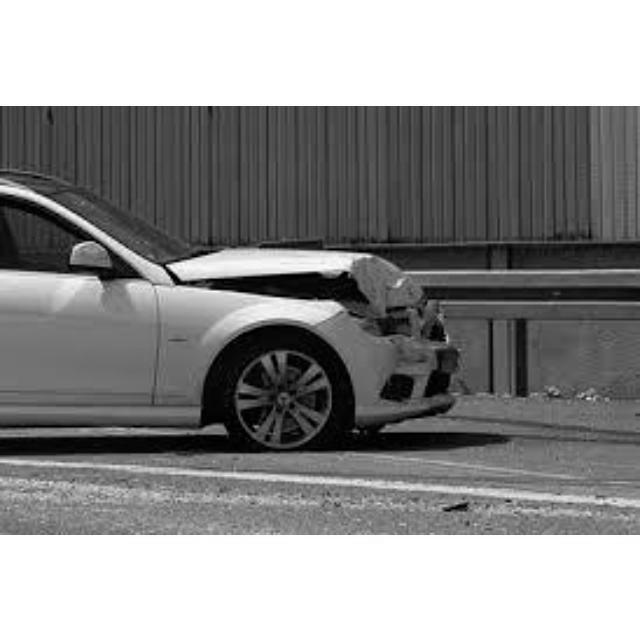bonnet-dent: (276, 222, 416, 310)
front-bumper-dent: (390, 339, 462, 397)
